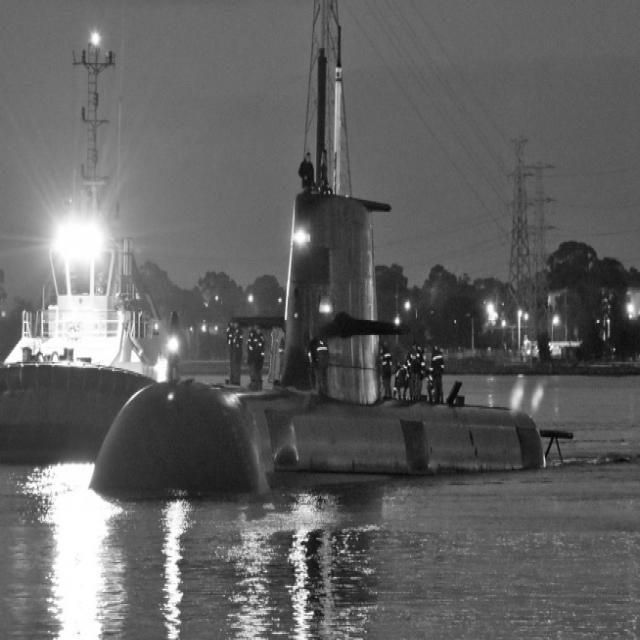submarine: (104, 16, 583, 473)
